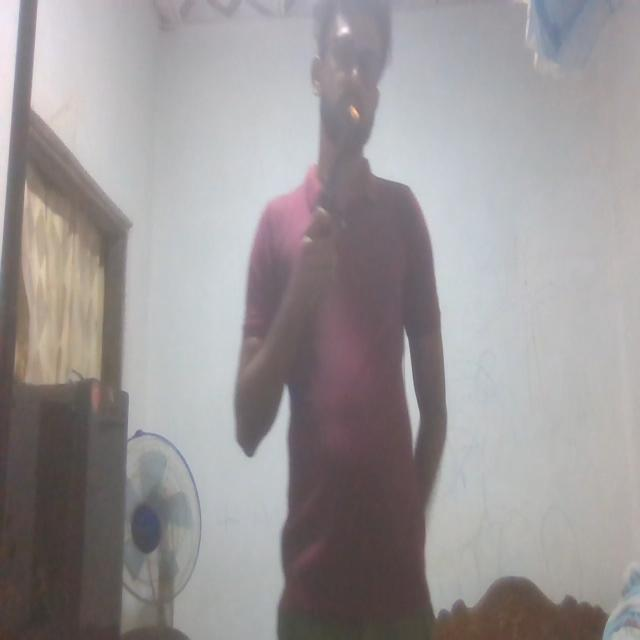Gun_Holder: (298, 107, 384, 278)
Person: (238, 0, 456, 634)
